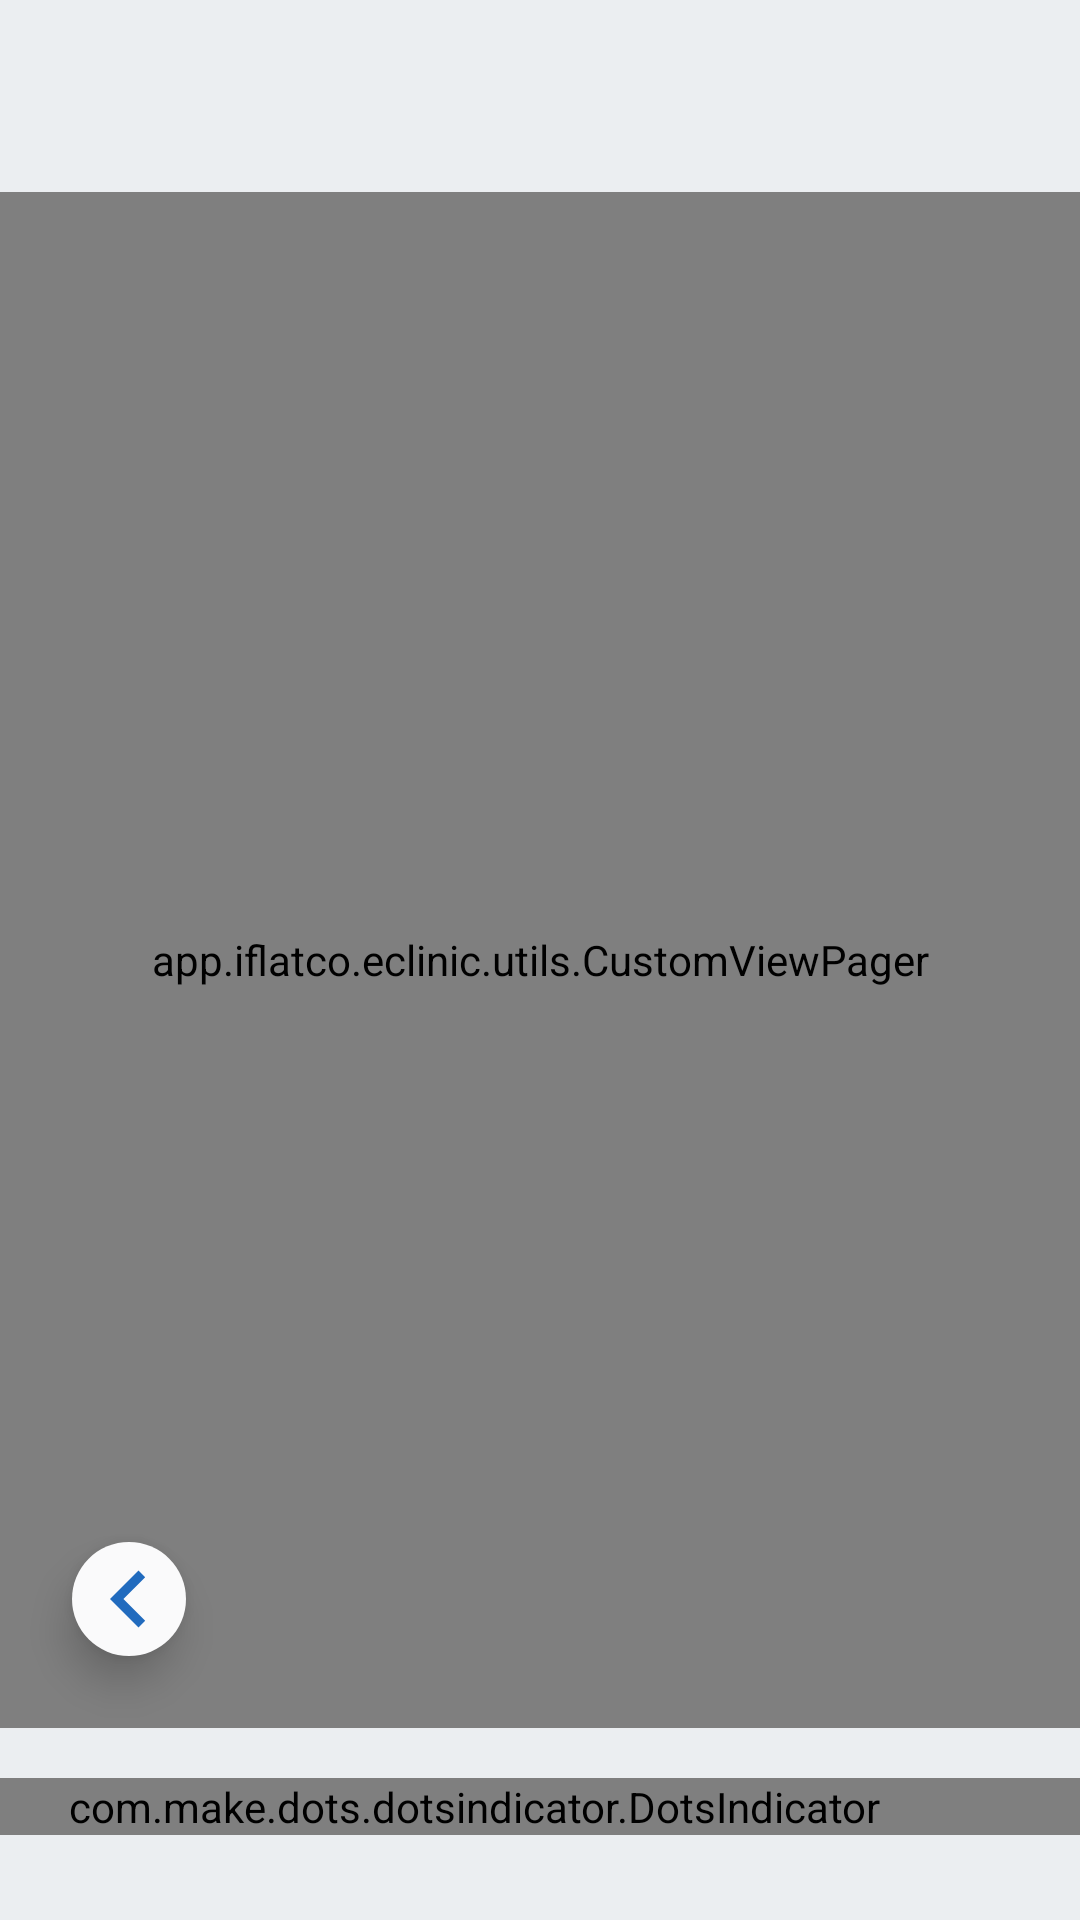

Named icons in this screenshot (1080x1920) and their centers, [x,y]:
chevron left: [129,1599]
